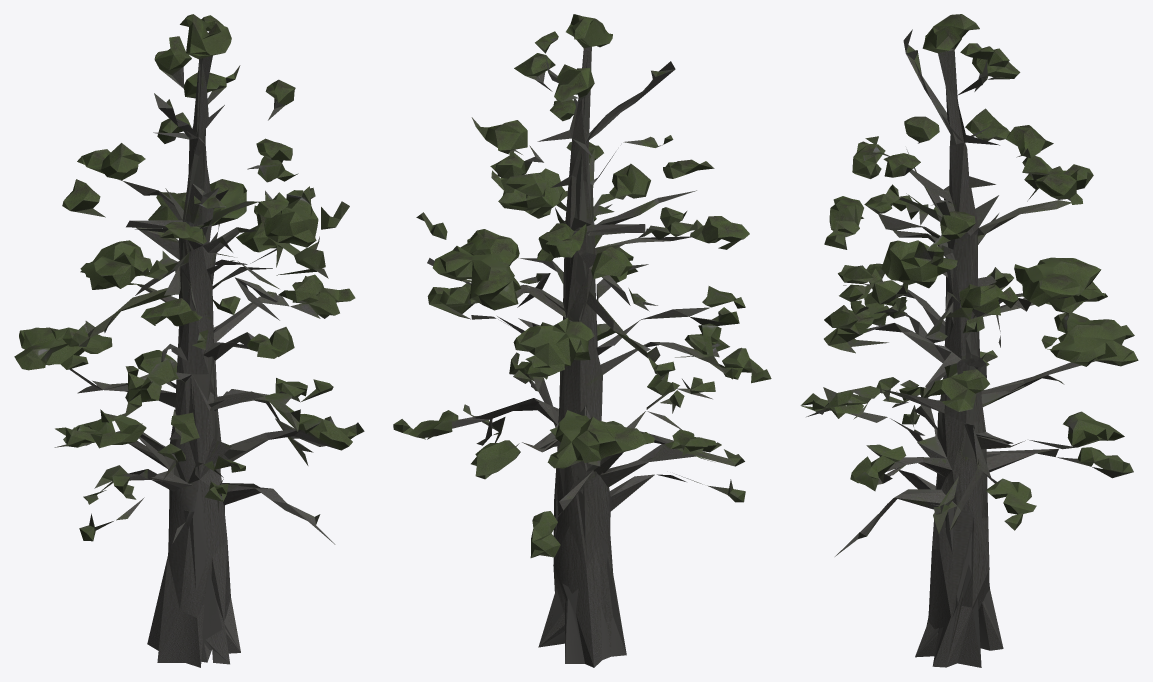
The model's file is conifer.glb.
3 renders of one model, left to right at view 1: azimuth 30°, elevation 25°; view 2: azimuth 150°, elevation 25°; view 3: azimuth 270°, elevation 25°, orthographic.
Bounding box in the file's own units: 0.9555 × 1.89 × 0.9116.
Materials: 1 (1 with a texture image).
